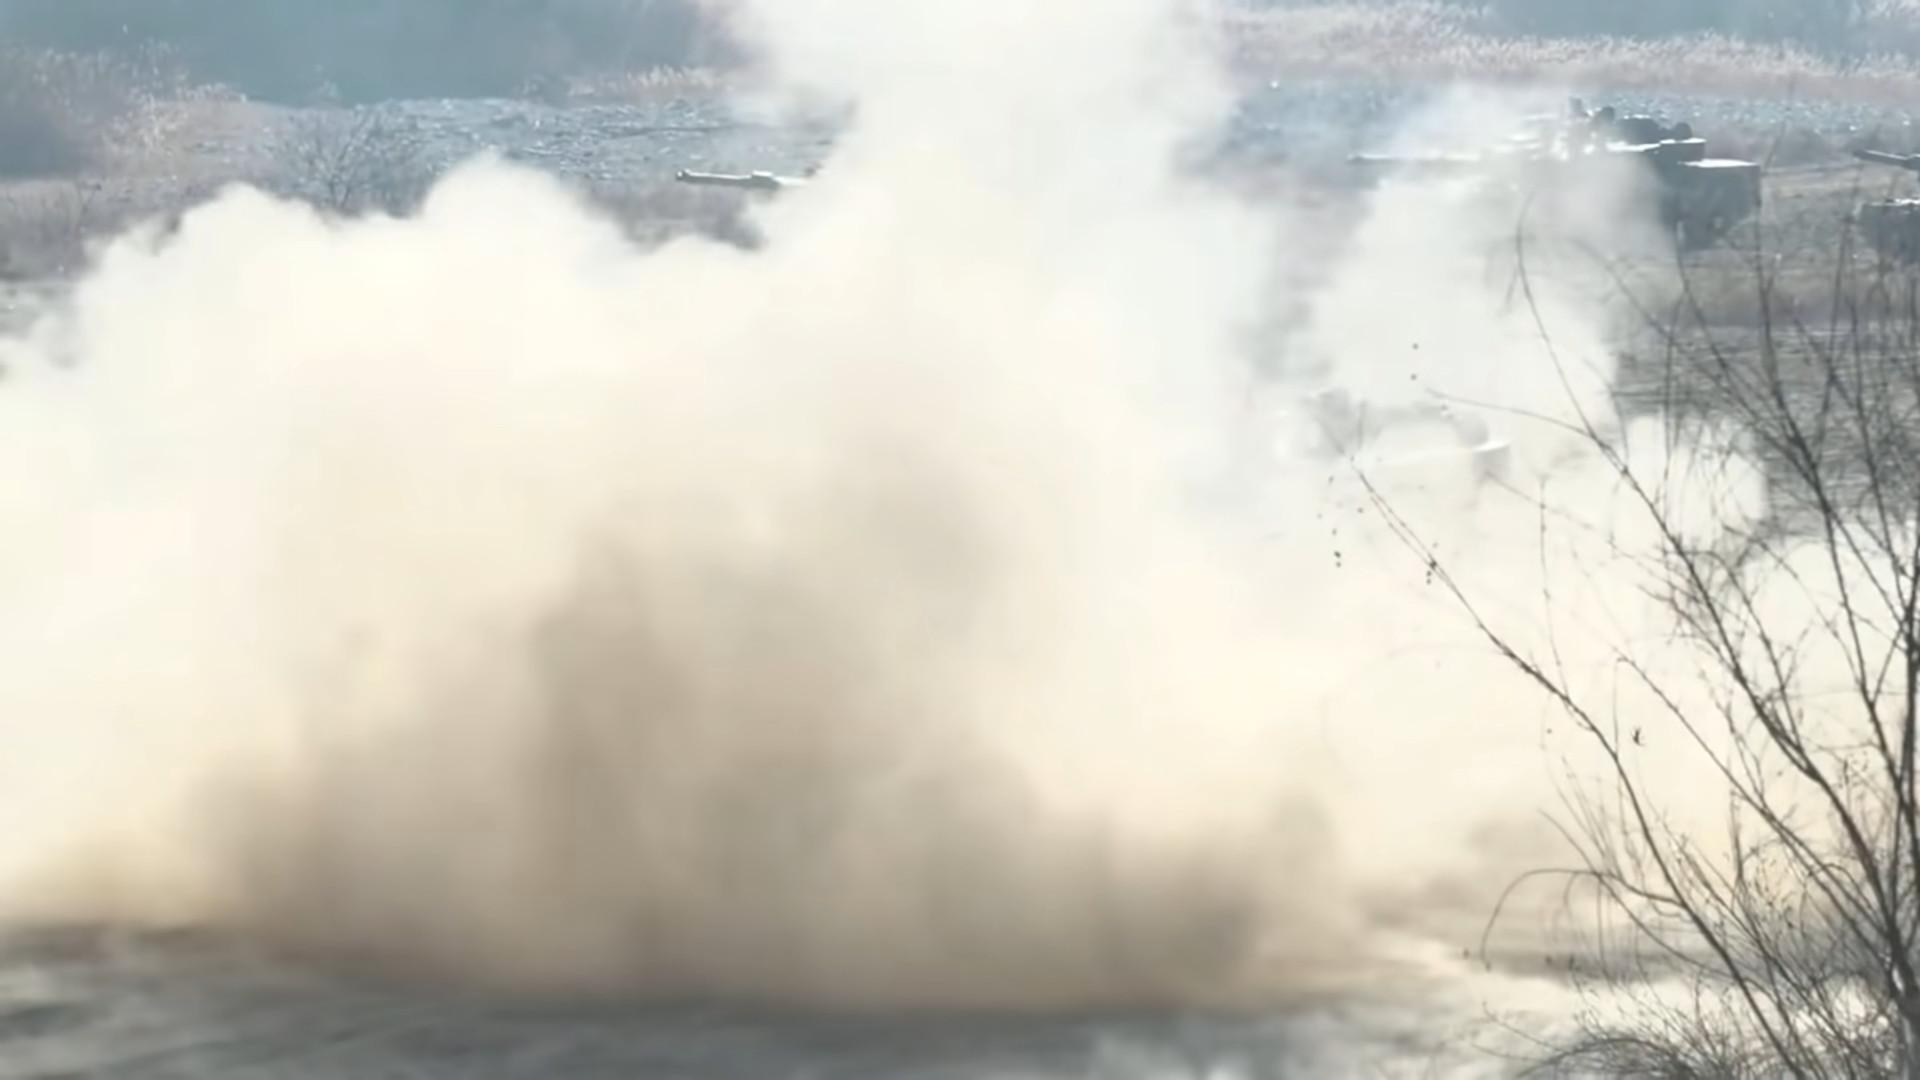tank: (1348, 94, 1760, 248)
